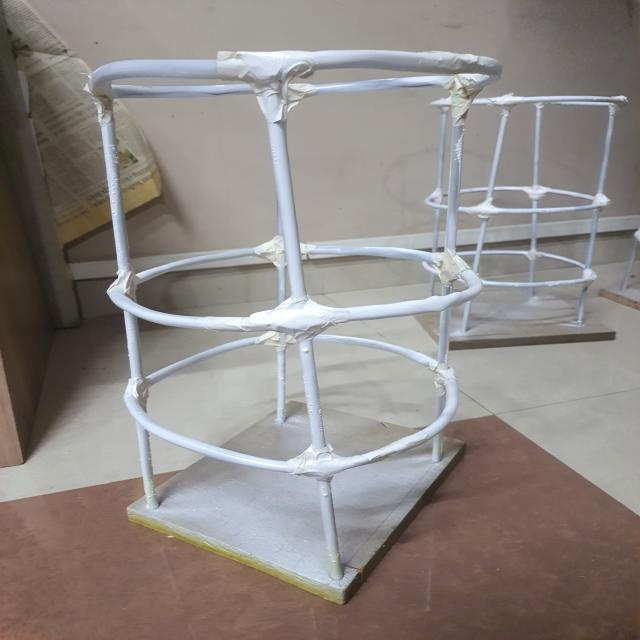silo: (76, 41, 477, 586), (450, 76, 617, 346)
